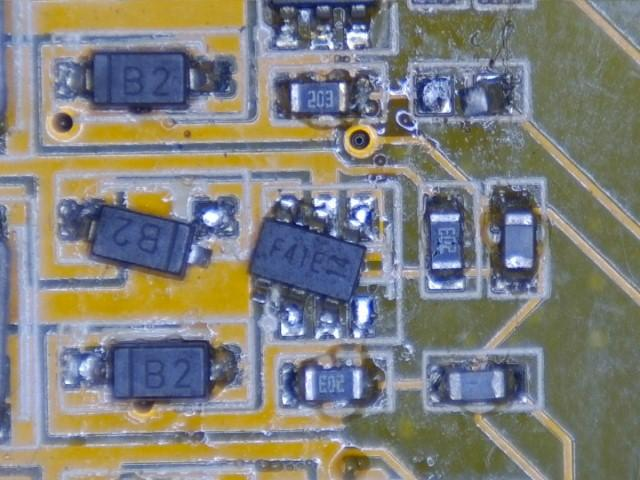pcb_defect: (248, 194, 376, 340), (58, 198, 237, 281), (415, 74, 512, 117)
